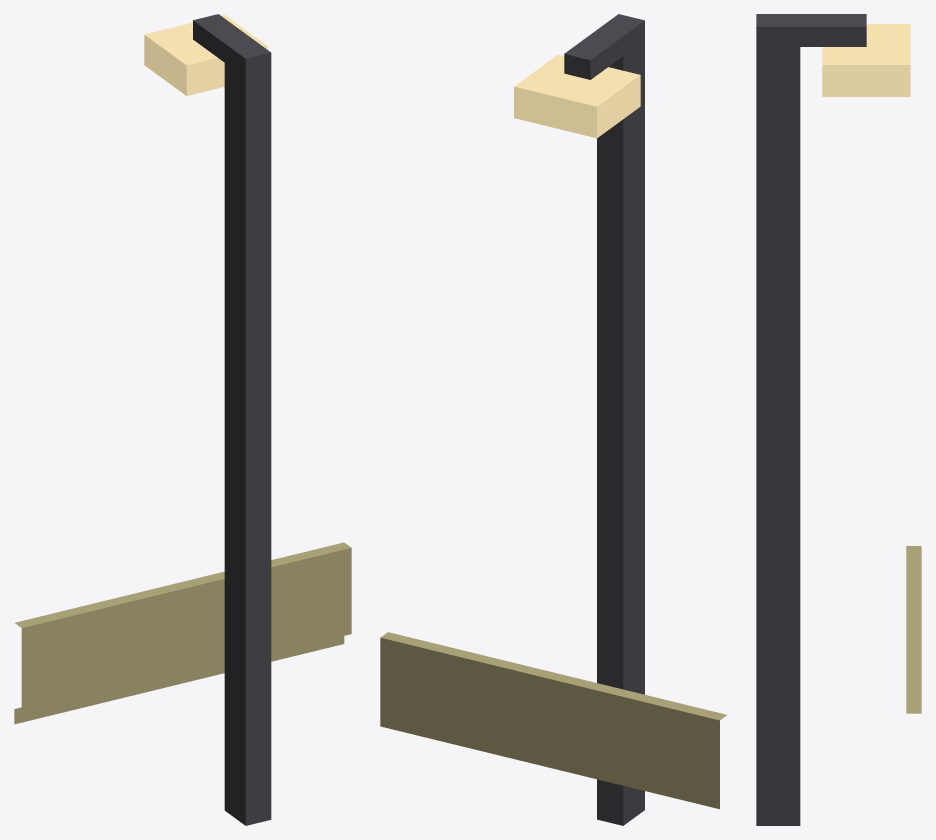
Rendered from poste_calcadao.glb.
3 views of the same model, side by side, from view 1: azimuth 30°, elevation 25°; view 2: azimuth 150°, elevation 25°; view 3: azimuth 270°, elevation 25° (orthographic). The views are drawn at different scales.
Visible parts, largest first — view 1: Malha_0; view 2: Malha_0; view 3: Malha_0.
Part boxes in pixels (bbox=[...]): Malha_0: bbox=[14, 14, 351, 825]; Malha_0: bbox=[380, 14, 726, 825]; Malha_0: bbox=[756, 14, 921, 825].
Bounding box in the file's own units: 1.8 × 4 × 0.75.
